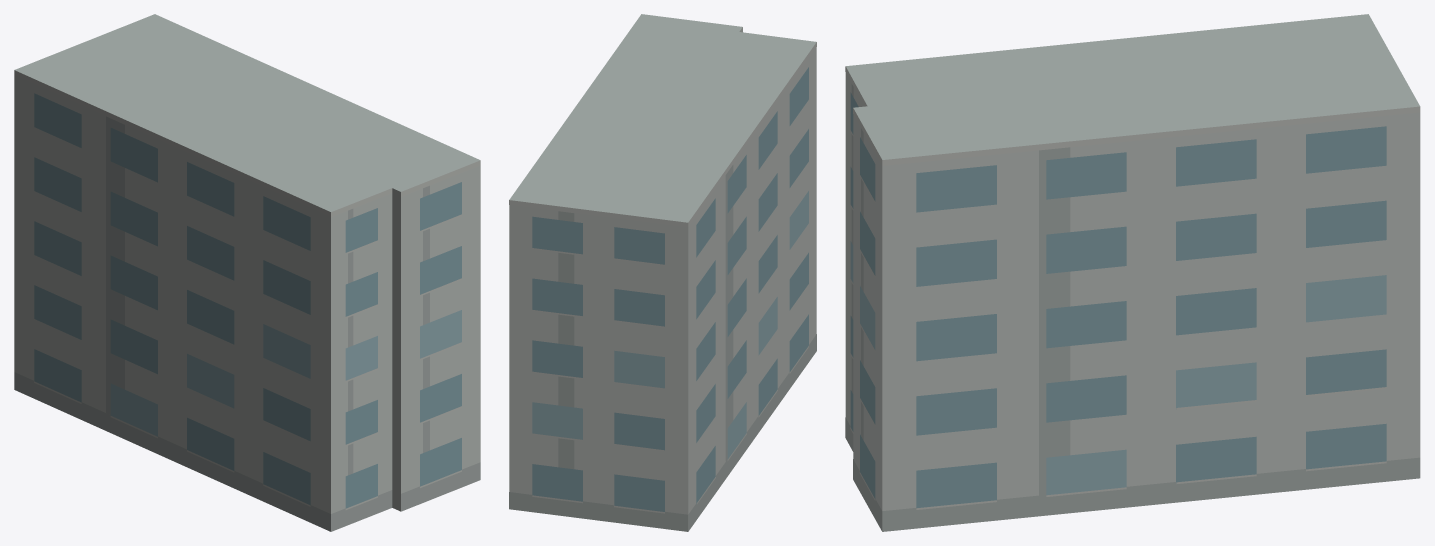
The model's file is survey-upis-33008657.glb.
3 views of the same model, side by side, from view 1: azimuth 30°, elevation 25°; view 2: azimuth 150°, elevation 25°; view 3: azimuth 270°, elevation 25° (orthographic). The views are drawn at different scales.
Visible parts, largest first — view 1: survey-upis-33008657.tmp; view 2: survey-upis-33008657.tmp; view 3: survey-upis-33008657.tmp.
Boxes of the visible parts, x1,y1,x2,y2 form: survey-upis-33008657.tmp: (14, 14, 480, 531); survey-upis-33008657.tmp: (509, 14, 816, 531); survey-upis-33008657.tmp: (845, 14, 1420, 531).
Size of the model in its own units: 12.86 by 15.25 by 21.37.
